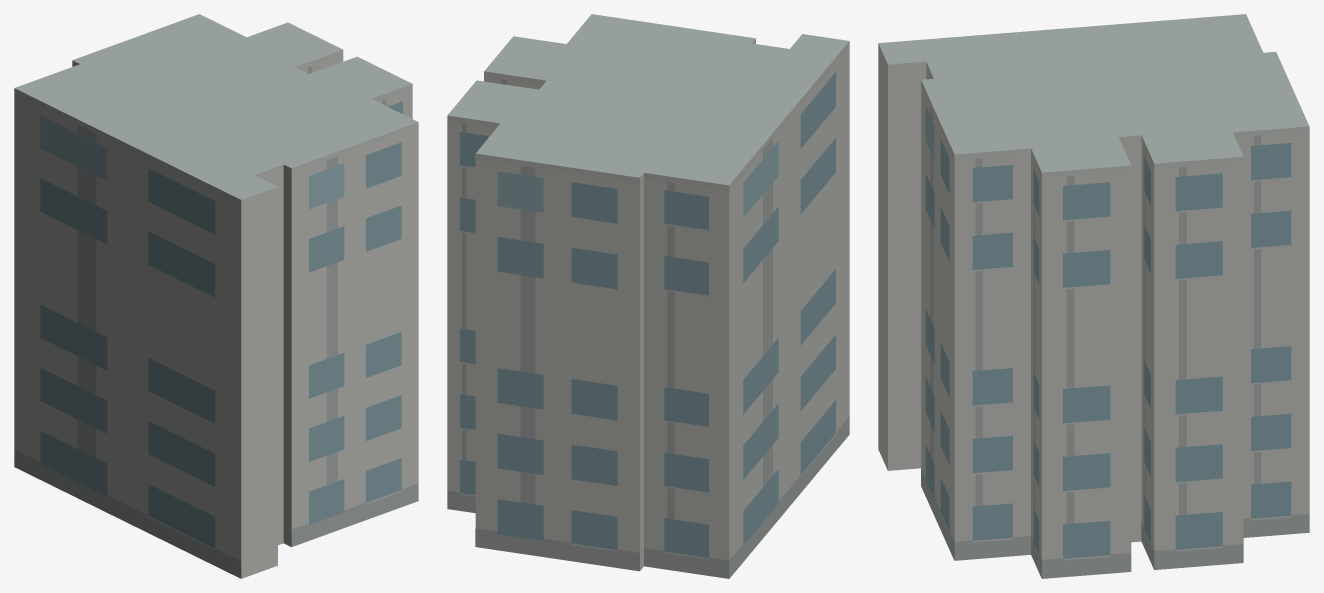
Rendered from survey-upis-32741983.glb.
The picture shows the model from 3 angles, left to right: view 1: azimuth 30°, elevation 25°; view 2: azimuth 150°, elevation 25°; view 3: azimuth 270°, elevation 25°; orthographic projection. The views are drawn at different scales.
Parts seen in each view (by area): view 1: survey-upis-32741983.tmp; view 2: survey-upis-32741983.tmp; view 3: survey-upis-32741983.tmp.
Part boxes in pixels (x1=…): survey-upis-32741983.tmp: x1=14, y1=14, x2=418, y2=578; survey-upis-32741983.tmp: x1=447, y1=14, x2=849, y2=578; survey-upis-32741983.tmp: x1=878, y1=14, x2=1309, y2=578.
Size of the model in its own units: 14.45 by 17.25 by 16.6.
